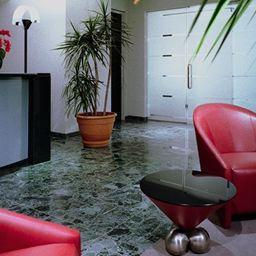Matera: (68, 22, 131, 146)
